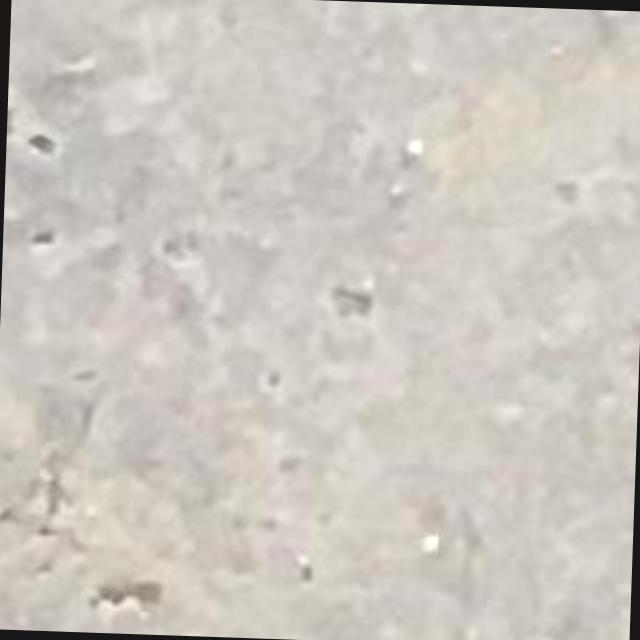crack: (131, 0, 640, 457)
